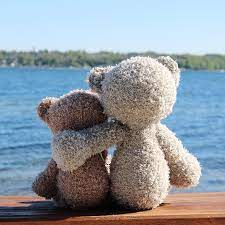teddy: (76, 50, 211, 216), (23, 85, 121, 216)
